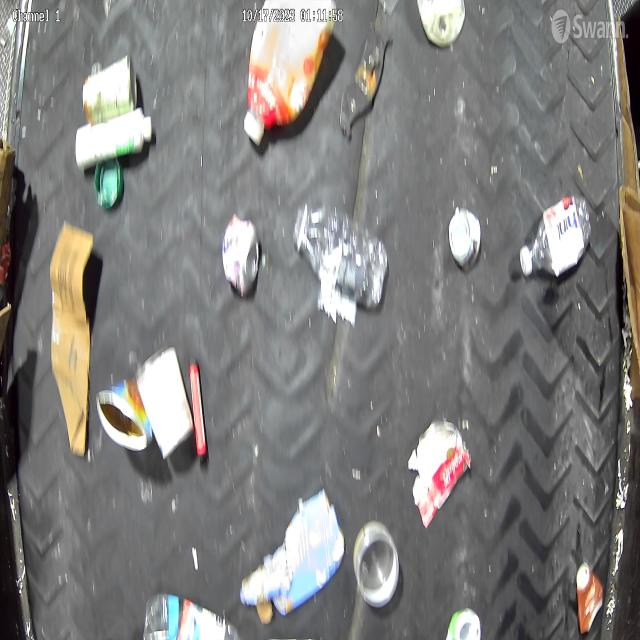can: (98, 375, 152, 452), (84, 53, 141, 121), (222, 216, 260, 300), (449, 205, 483, 271)
plastic_bottle: (294, 200, 388, 314), (517, 194, 594, 280)
